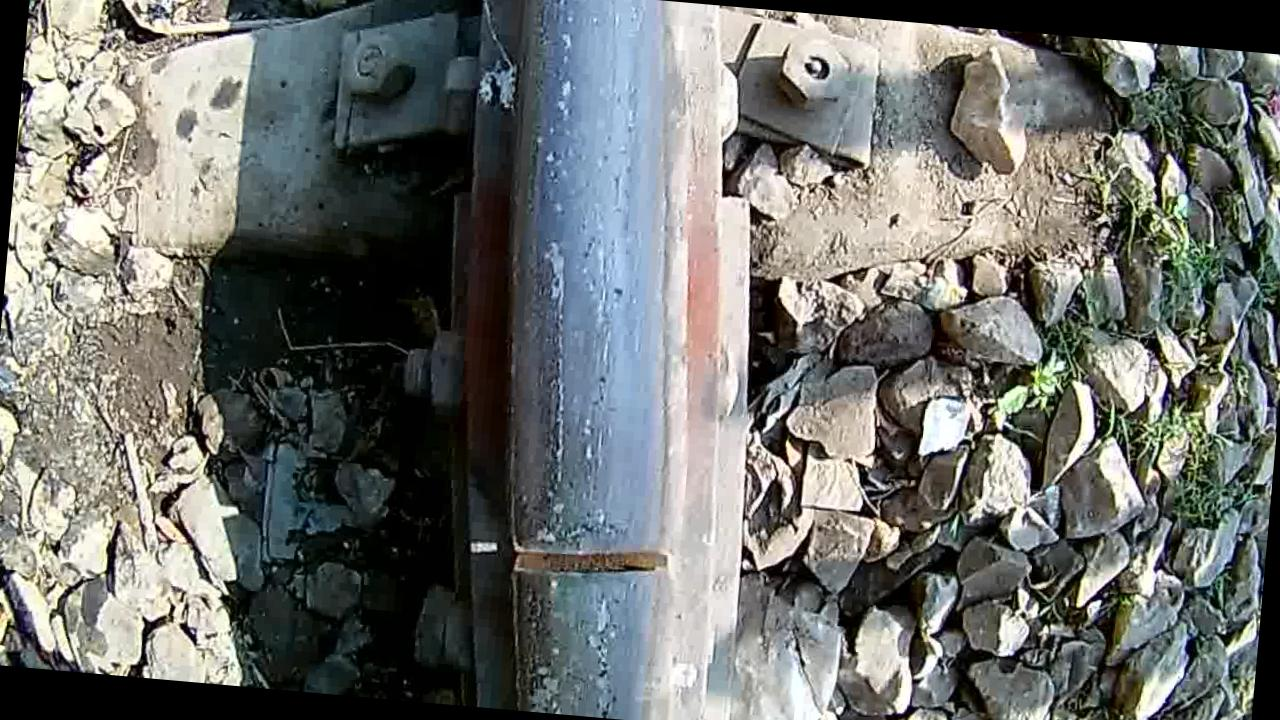clip_missing: (475, 0, 689, 538)
